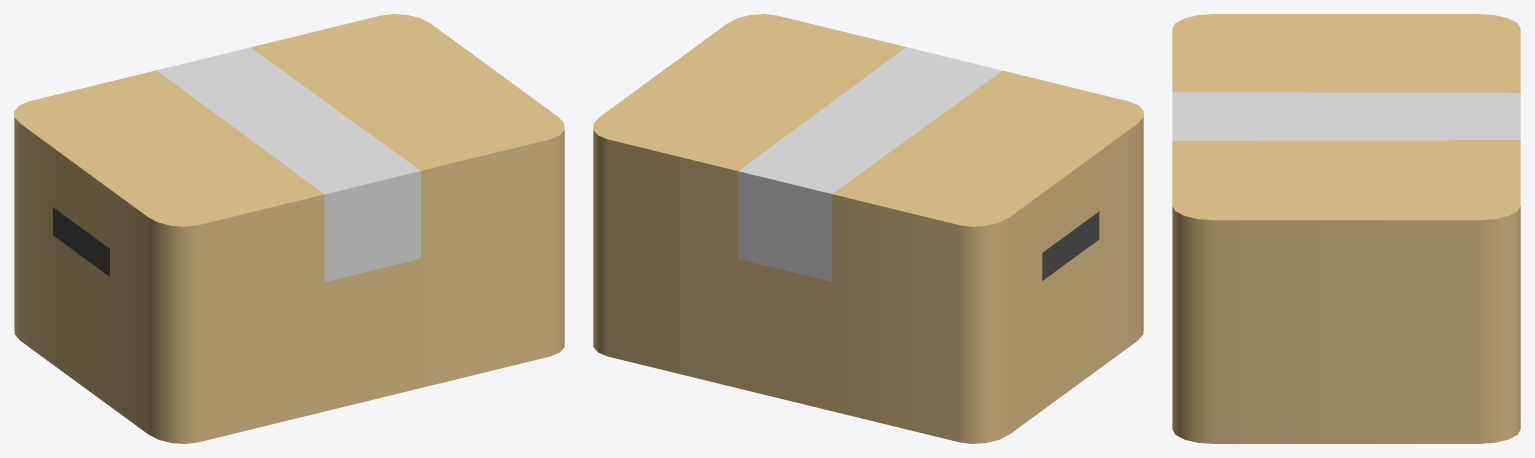
The model's file is big box.fbx.
3 renders of one model, left to right at view 1: azimuth 30°, elevation 25°; view 2: azimuth 150°, elevation 25°; view 3: azimuth 270°, elevation 25°, orthographic. The views are drawn at different scales.
Visible parts, largest first — view 1: big box; view 2: big box; view 3: big box.
Part boxes in pixels (bbox=[...]): big box: bbox=[14, 14, 564, 443]; big box: bbox=[593, 14, 1143, 443]; big box: bbox=[1172, 14, 1520, 443].
Size of the model in its own units: 2.29 by 1.16 by 1.64.
